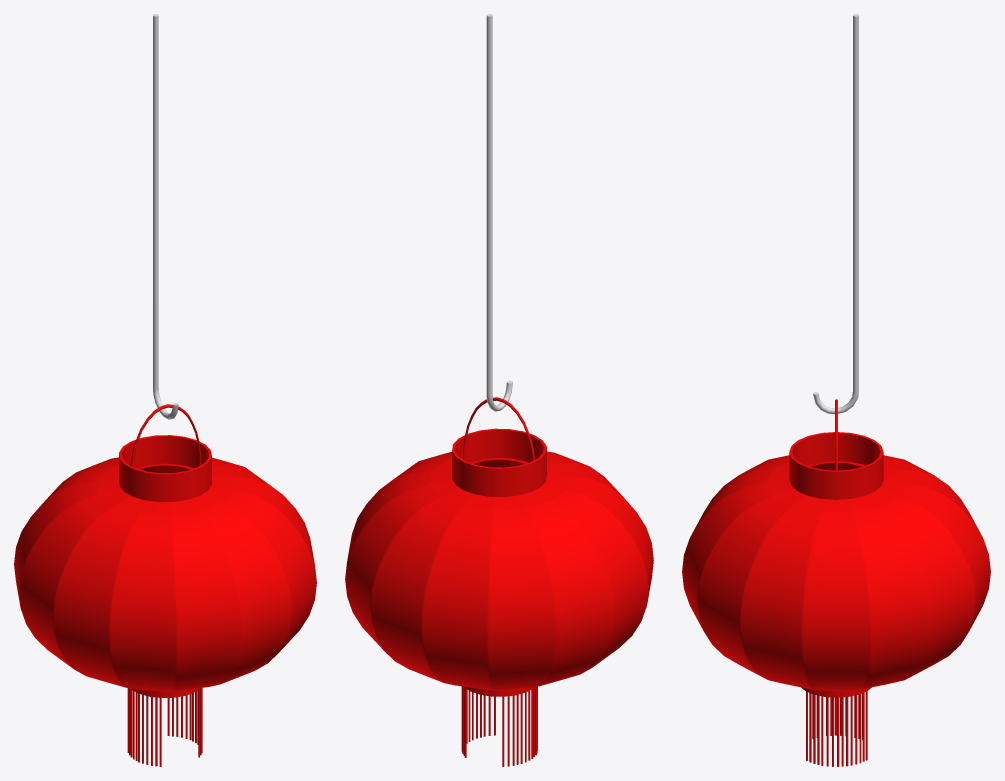
The model's file is Lampe PapierV2 + crochet (TEXTURED).fbx.
3 views of the same model, side by side, from view 1: azimuth 30°, elevation 25°; view 2: azimuth 150°, elevation 25°; view 3: azimuth 270°, elevation 25° (orthographic).
Parts seen in each view (by area): view 1: papier, metal_haut, girlande, crochet; view 2: papier, metal_haut, girlande, crochet; view 3: papier, metal_haut, girlande, crochet.
Boxes of the visible parts, left/top/right/bottom form: papier: left=14, top=457, right=316, bottom=691; metal_haut: left=119, top=435, right=211, bottom=502; girlande: left=127, top=688, right=202, bottom=766; crochet: left=153, top=14, right=178, bottom=419; papier: left=345, top=451, right=653, bottom=690; metal_haut: left=452, top=428, right=546, bottom=497; girlande: left=461, top=686, right=537, bottom=766; crochet: left=486, top=14, right=512, bottom=411; papier: left=682, top=455, right=990, bottom=690; metal_haut: left=789, top=432, right=883, bottom=499; girlande: left=806, top=691, right=867, bottom=766; crochet: left=812, top=14, right=858, bottom=414.
Size of the model in its own units: 1.86 by 5.01 by 1.91.
